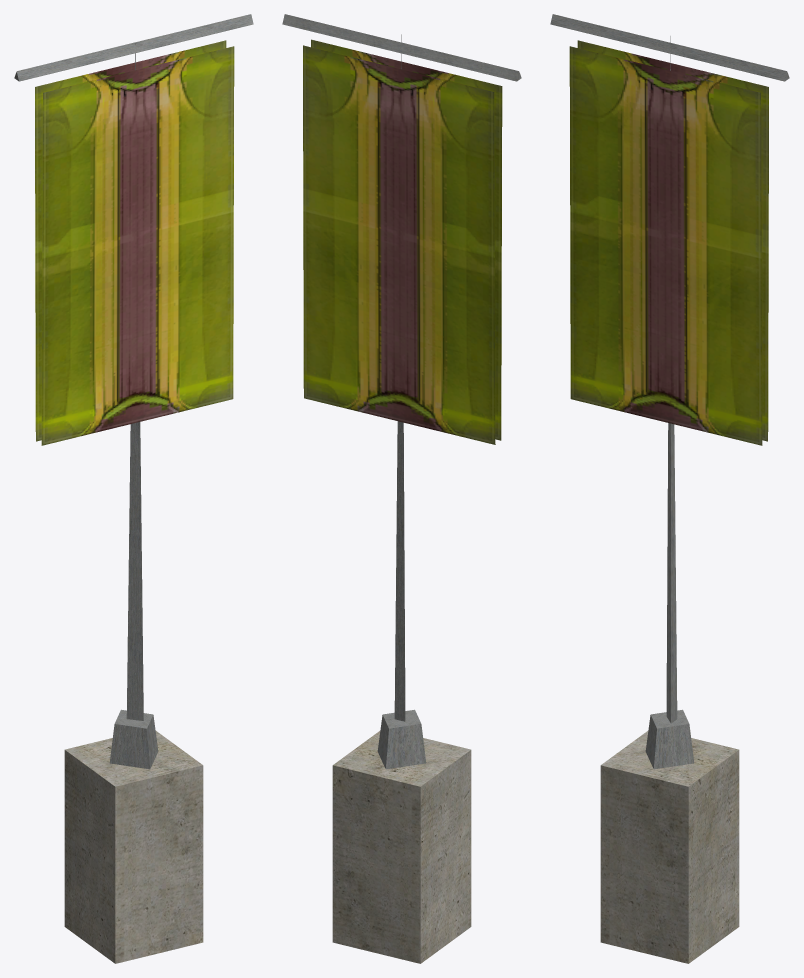
The model's file is thm_all_banner_generic_s02_l2.fbx.
3 renders of one model, left to right at view 1: azimuth 30°, elevation 25°; view 2: azimuth 150°, elevation 25°; view 3: azimuth 330°, elevation 25°, orthographic.
Visible parts, largest first — view 1: mesh_node; view 2: mesh_node; view 3: mesh_node.
Boxes of the visible parts, <box> form: mesh_node: <box>14,14,253,963</box>; mesh_node: <box>282,14,521,963</box>; mesh_node: <box>550,14,789,963</box>.
Size of the model in its own units: 2 by 7.37 by 0.75.
